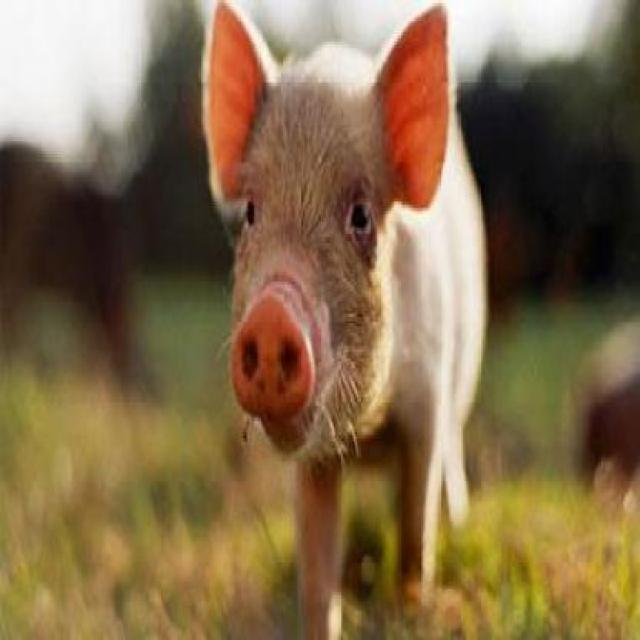wildboar: (193, 0, 498, 640)
